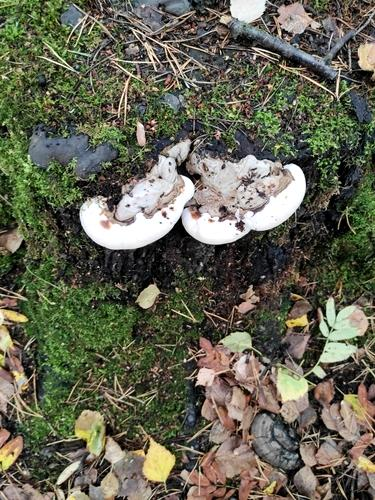Ganoderma - Fruit Body: (78, 142, 307, 253)
